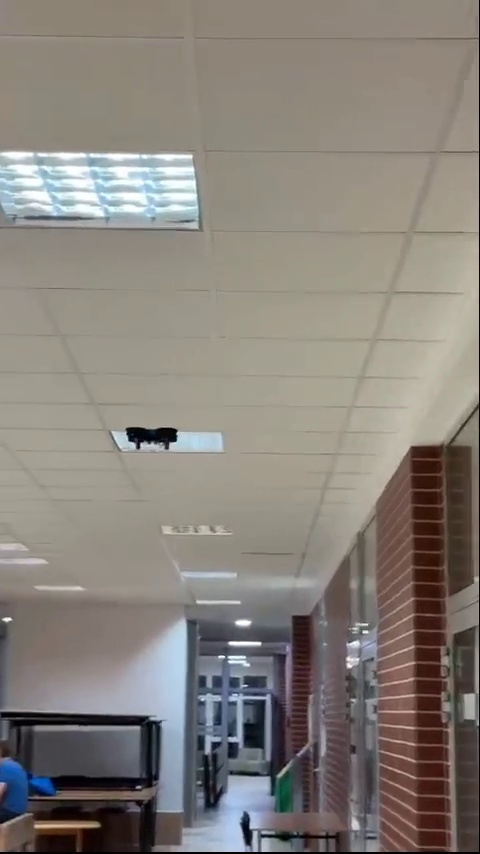drone: (124, 425, 178, 448)
